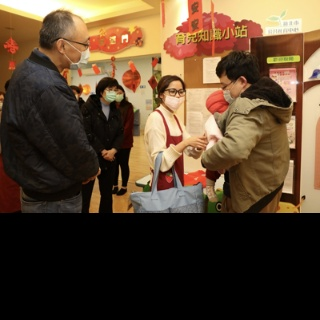with_mask: (65, 34, 90, 71), (164, 87, 185, 111), (220, 81, 241, 104), (104, 88, 117, 104), (116, 91, 124, 104)
